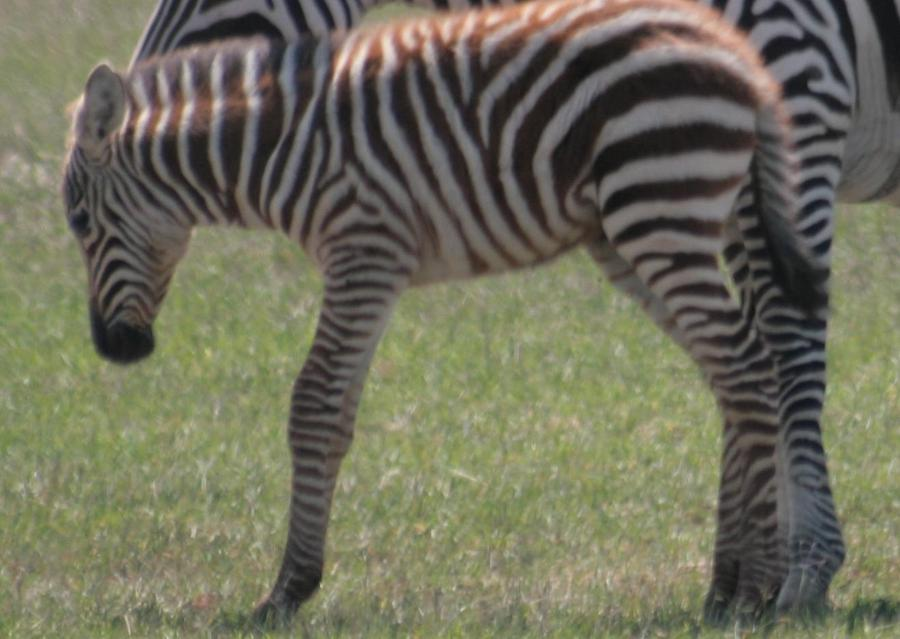zebra_plains: (230, 8, 797, 319)
